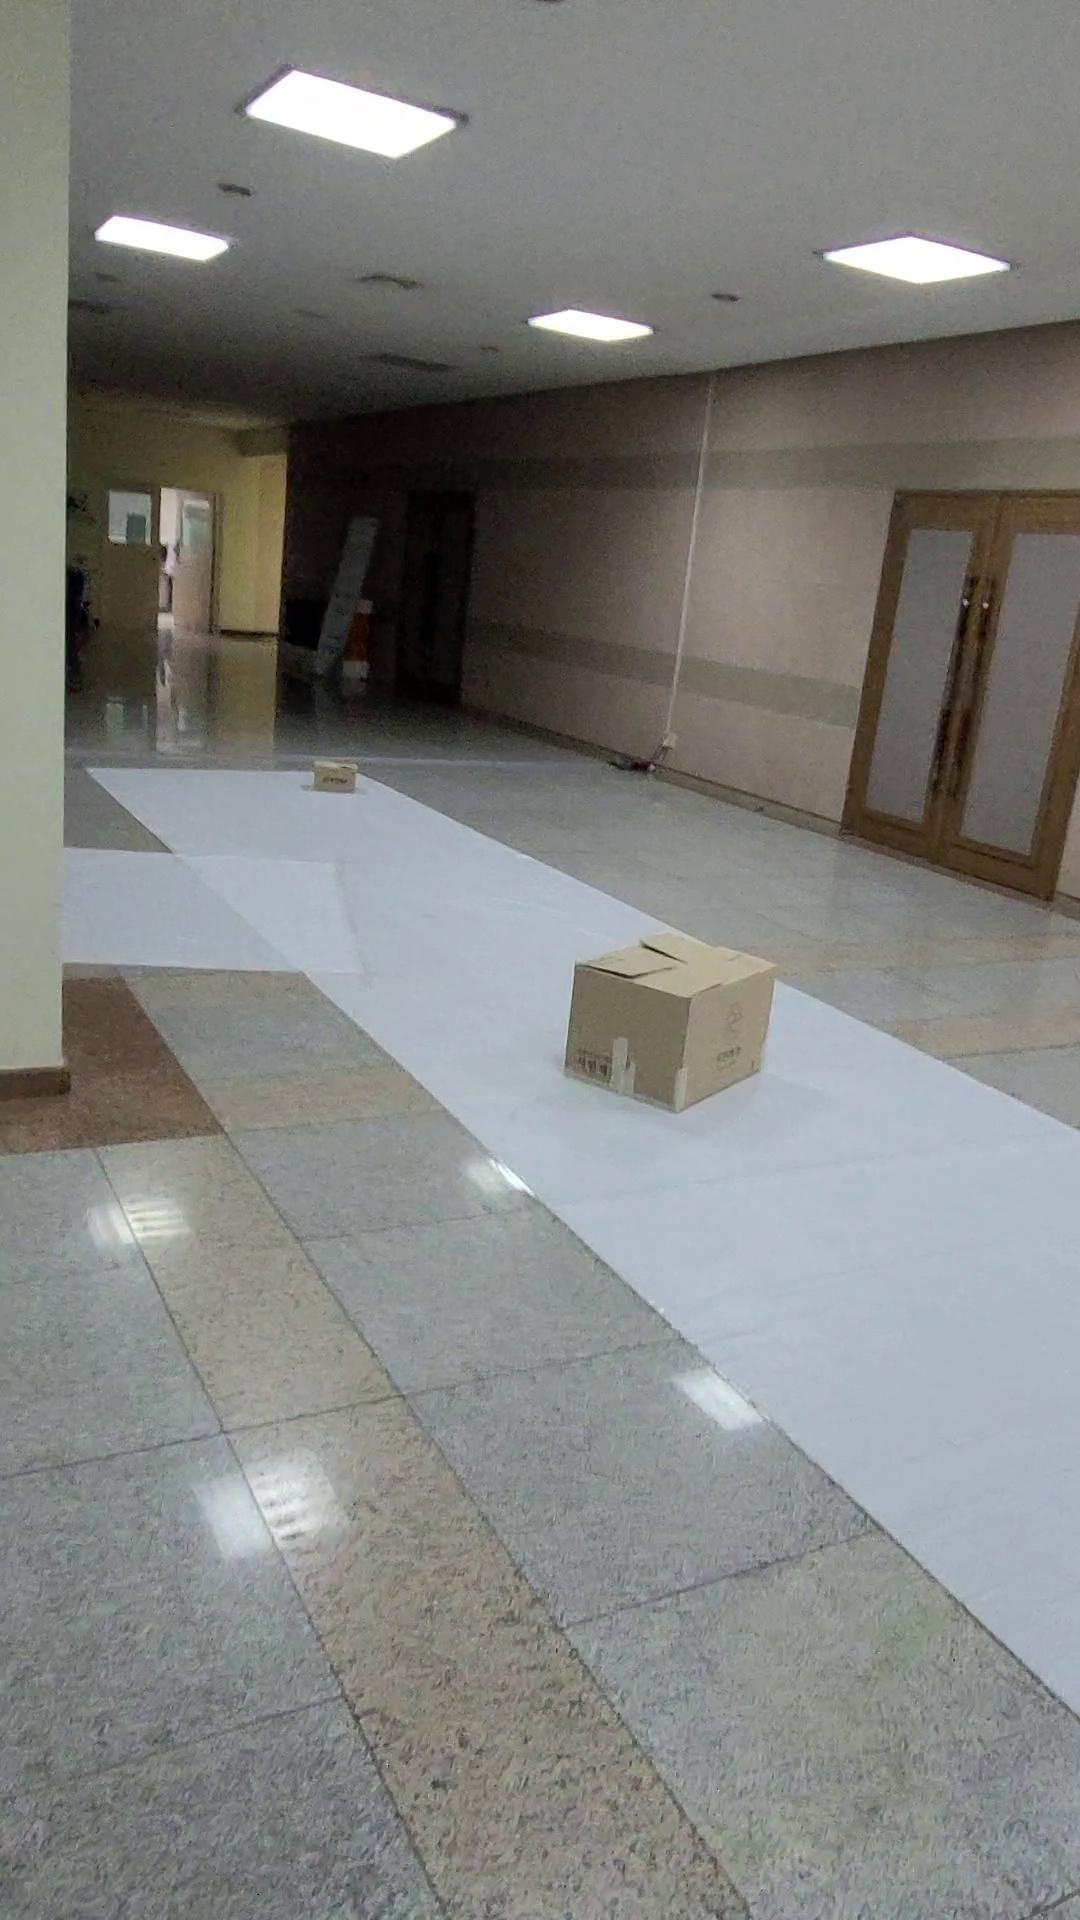Box: (535, 910, 818, 1130), (276, 740, 404, 820)
